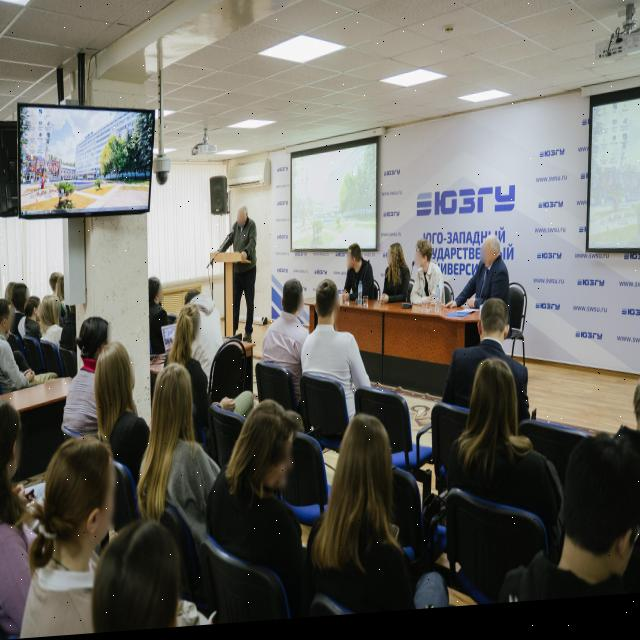Person: (221, 404, 316, 596), (78, 511, 204, 635), (136, 343, 213, 537), (40, 438, 113, 638), (334, 411, 406, 611), (454, 370, 540, 533), (0, 393, 36, 640), (92, 338, 150, 476), (306, 279, 367, 409), (456, 301, 514, 414), (264, 279, 312, 400), (464, 231, 518, 331), (221, 205, 259, 341), (0, 298, 32, 406), (146, 271, 172, 368), (173, 300, 205, 378), (341, 239, 373, 312), (382, 242, 416, 310), (413, 244, 442, 319), (38, 291, 64, 365), (22, 294, 52, 353), (12, 278, 34, 336)
